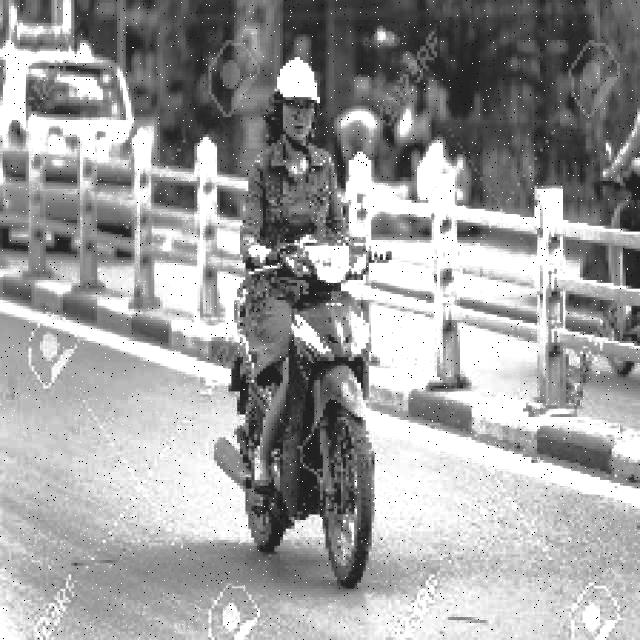Bike: (233, 215, 391, 595)
